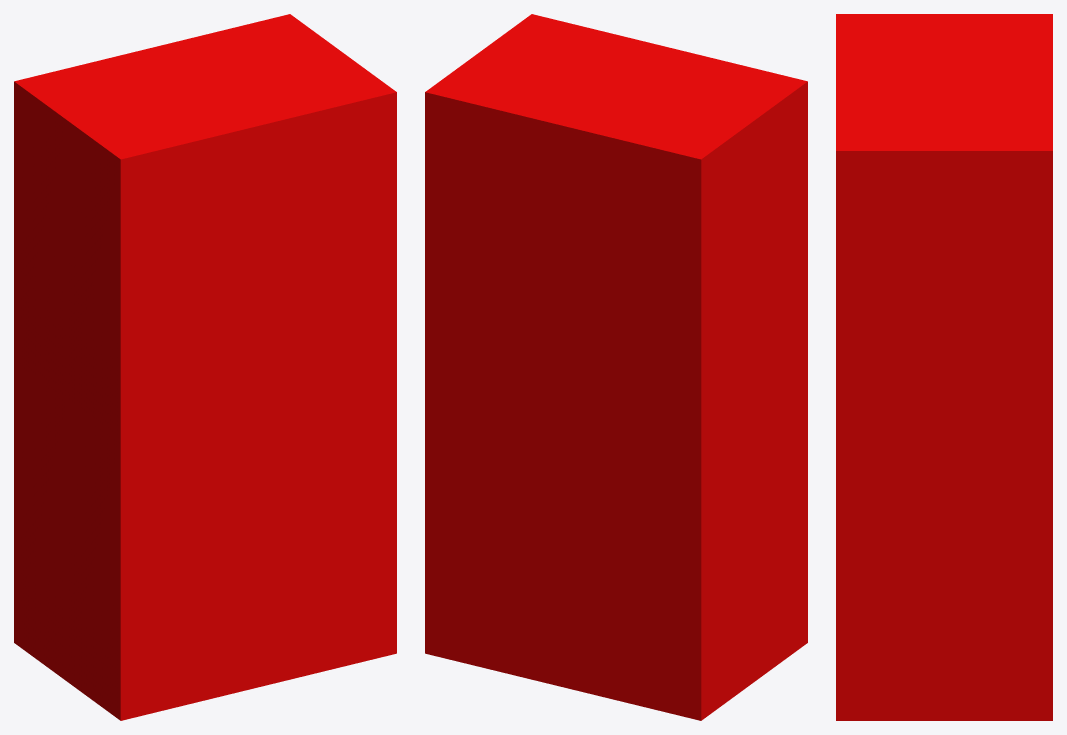
The model's file is clavicle_rvsm_col.dae.
3 views of the same model, side by side, from view 1: azimuth 30°, elevation 25°; view 2: azimuth 150°, elevation 25°; view 3: azimuth 270°, elevation 25° (orthographic).
Parts seen in each view (by area): view 1: node0; view 2: node0; view 3: node0.
Boxes of the visible parts, x1,y1,x2,y2 form: node0: (14, 14, 396, 720); node0: (425, 14, 807, 720); node0: (836, 14, 1052, 720).
Size of the model in its own units: 0.077 by 0.1496 by 0.0516.
